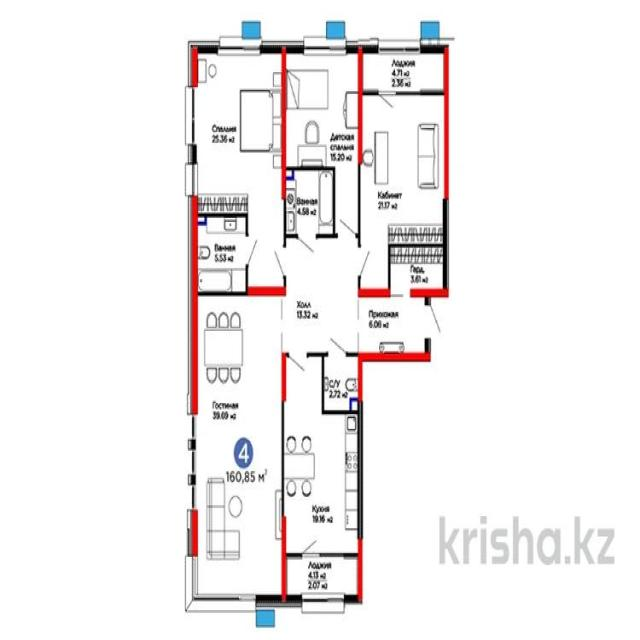balcony: (364, 48, 446, 87), (286, 558, 358, 595)
bathroom: (193, 216, 246, 291), (285, 170, 334, 237), (324, 355, 357, 411)
hallway: (290, 298, 426, 352)
kitchen: (284, 418, 360, 558)
living_room: (195, 297, 282, 597), (194, 51, 283, 212), (363, 95, 441, 222), (287, 51, 357, 168)
